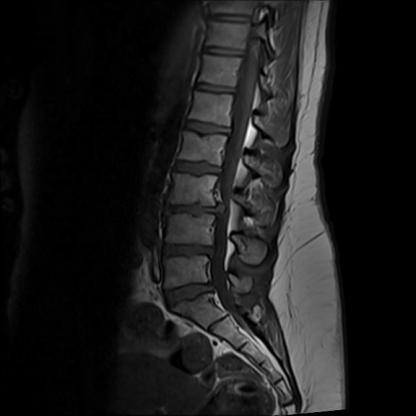Disc Bulgerotation: (161, 195, 231, 221), (159, 239, 222, 266), (161, 281, 222, 308)
